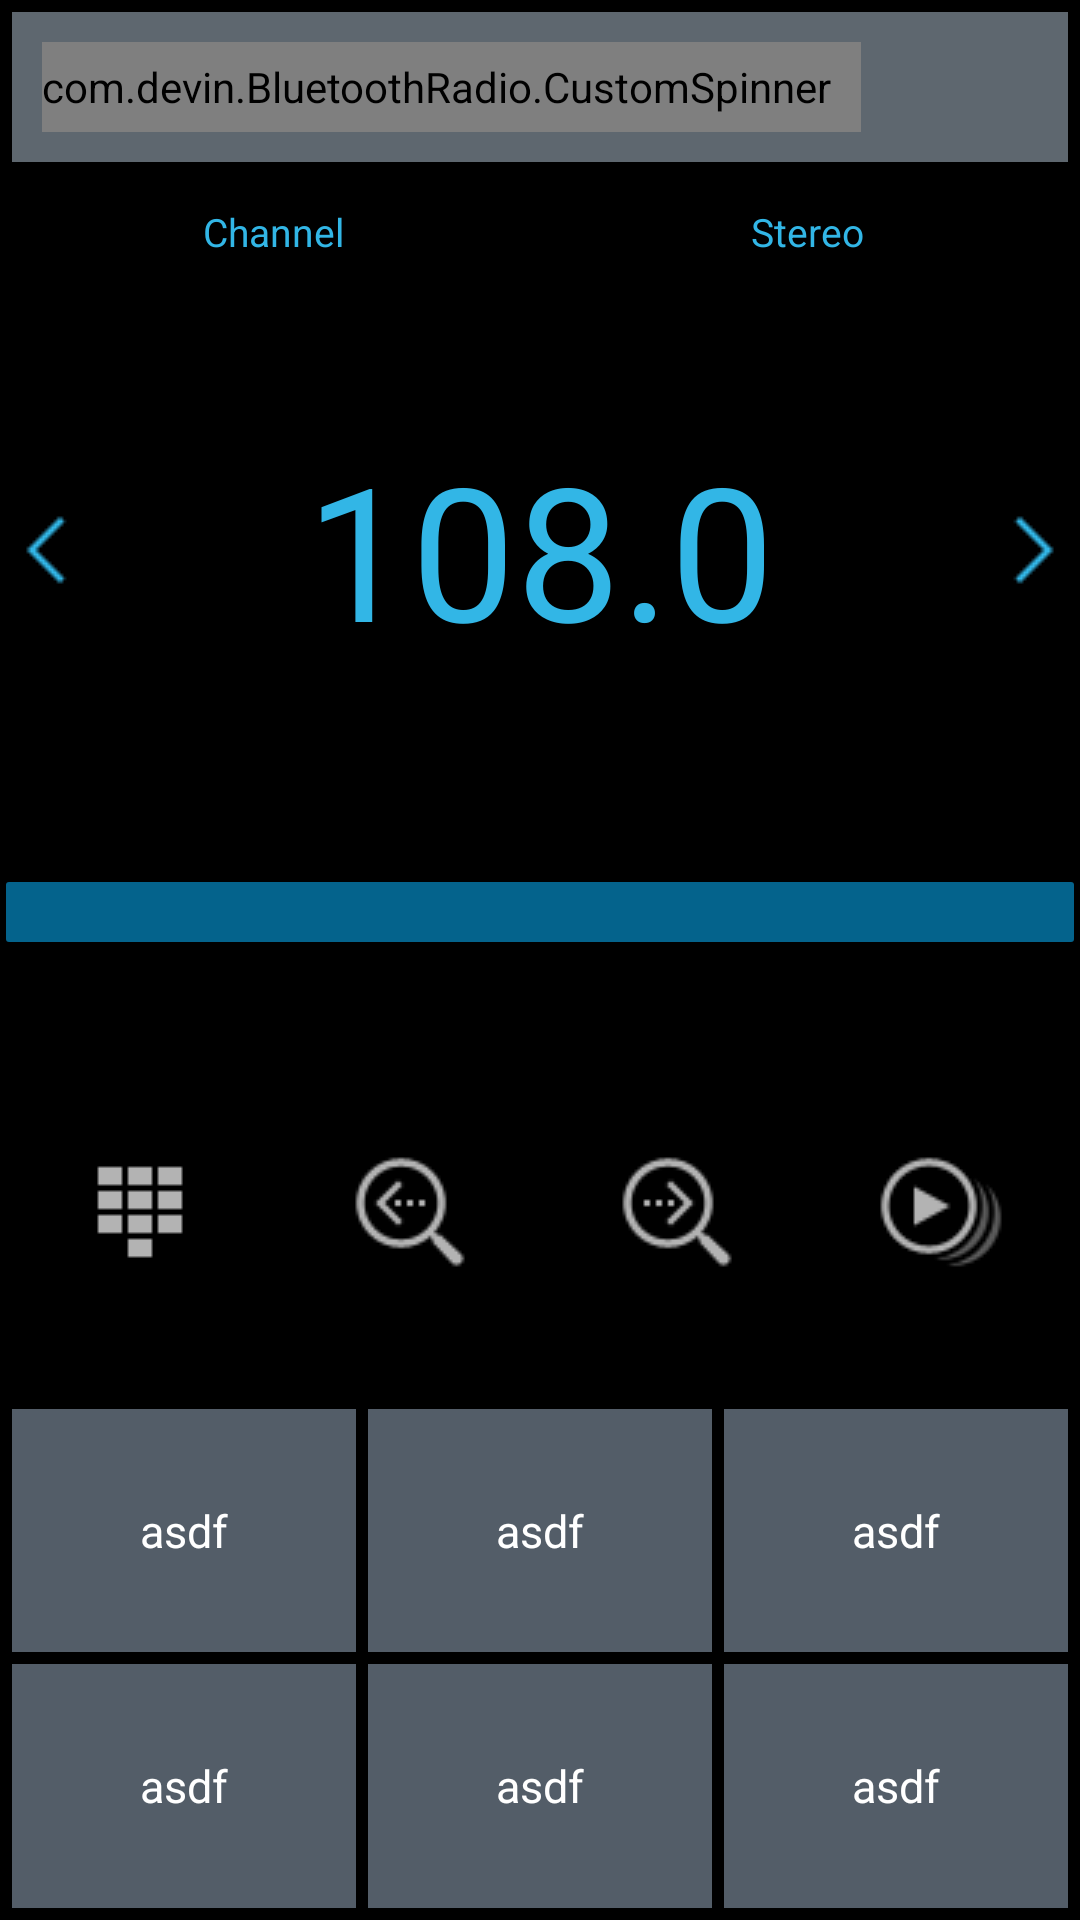

Where to tap for icons on this 1080px x 1920px app screen, as point (x, y):
tuner freq down: point (46, 550)
tuner freq input: point (140, 1212)
tuner freq up: point (1034, 550)
tuner scan down: point (410, 1212)
tuner scan up: point (677, 1212)
